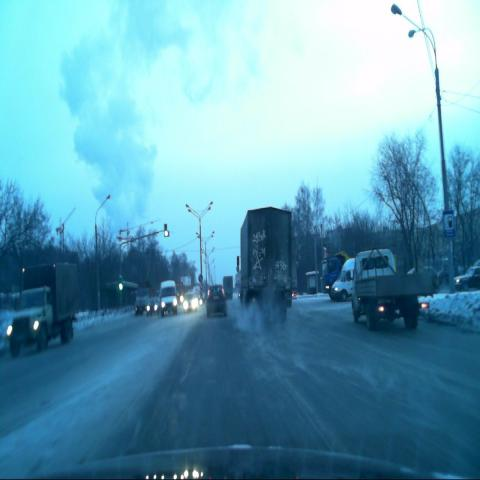7_3: (442, 209, 455, 238)
